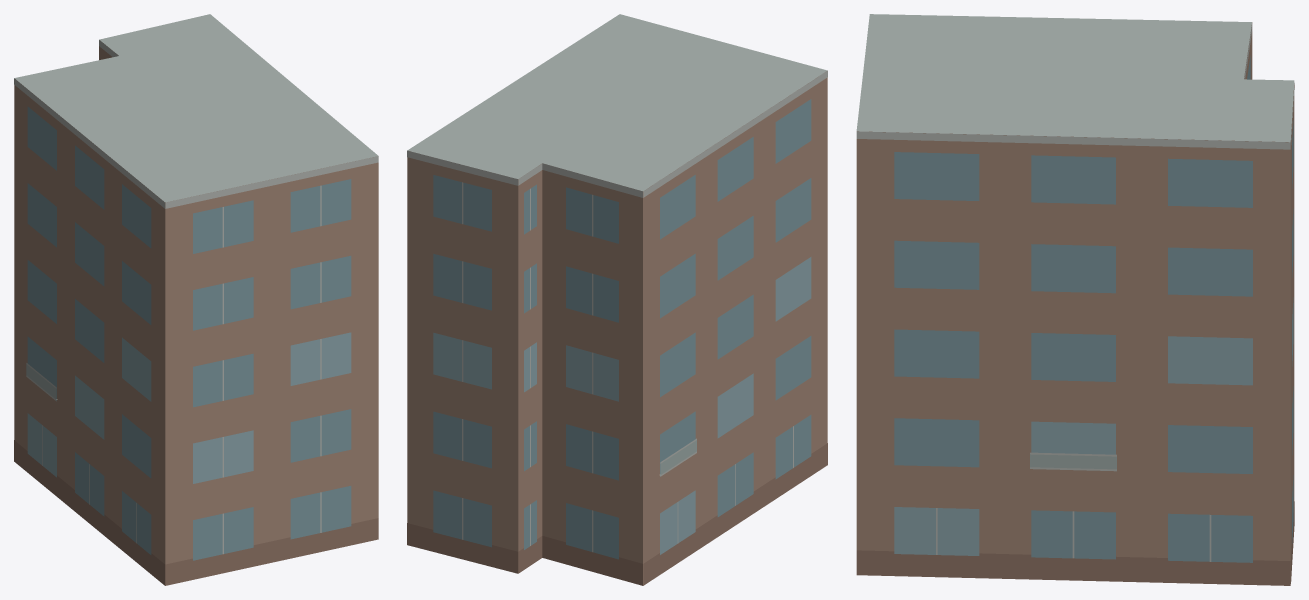
Rendered from survey-upis-32885318.glb.
The picture shows the model from 3 angles, left to right: view 1: azimuth 30°, elevation 25°; view 2: azimuth 150°, elevation 25°; view 3: azimuth 270°, elevation 25°; orthographic projection. The views are drawn at different scales.
Parts seen in each view (by area): view 1: survey-upis-32885318.tmp; view 2: survey-upis-32885318.tmp; view 3: survey-upis-32885318.tmp.
Boxes of the visible parts, x1,y1,x2,y2 form: survey-upis-32885318.tmp: [14, 14, 378, 585]; survey-upis-32885318.tmp: [407, 14, 827, 585]; survey-upis-32885318.tmp: [856, 14, 1294, 585].
Size of the model in its own units: 8.95 by 14.43 by 12.92.
